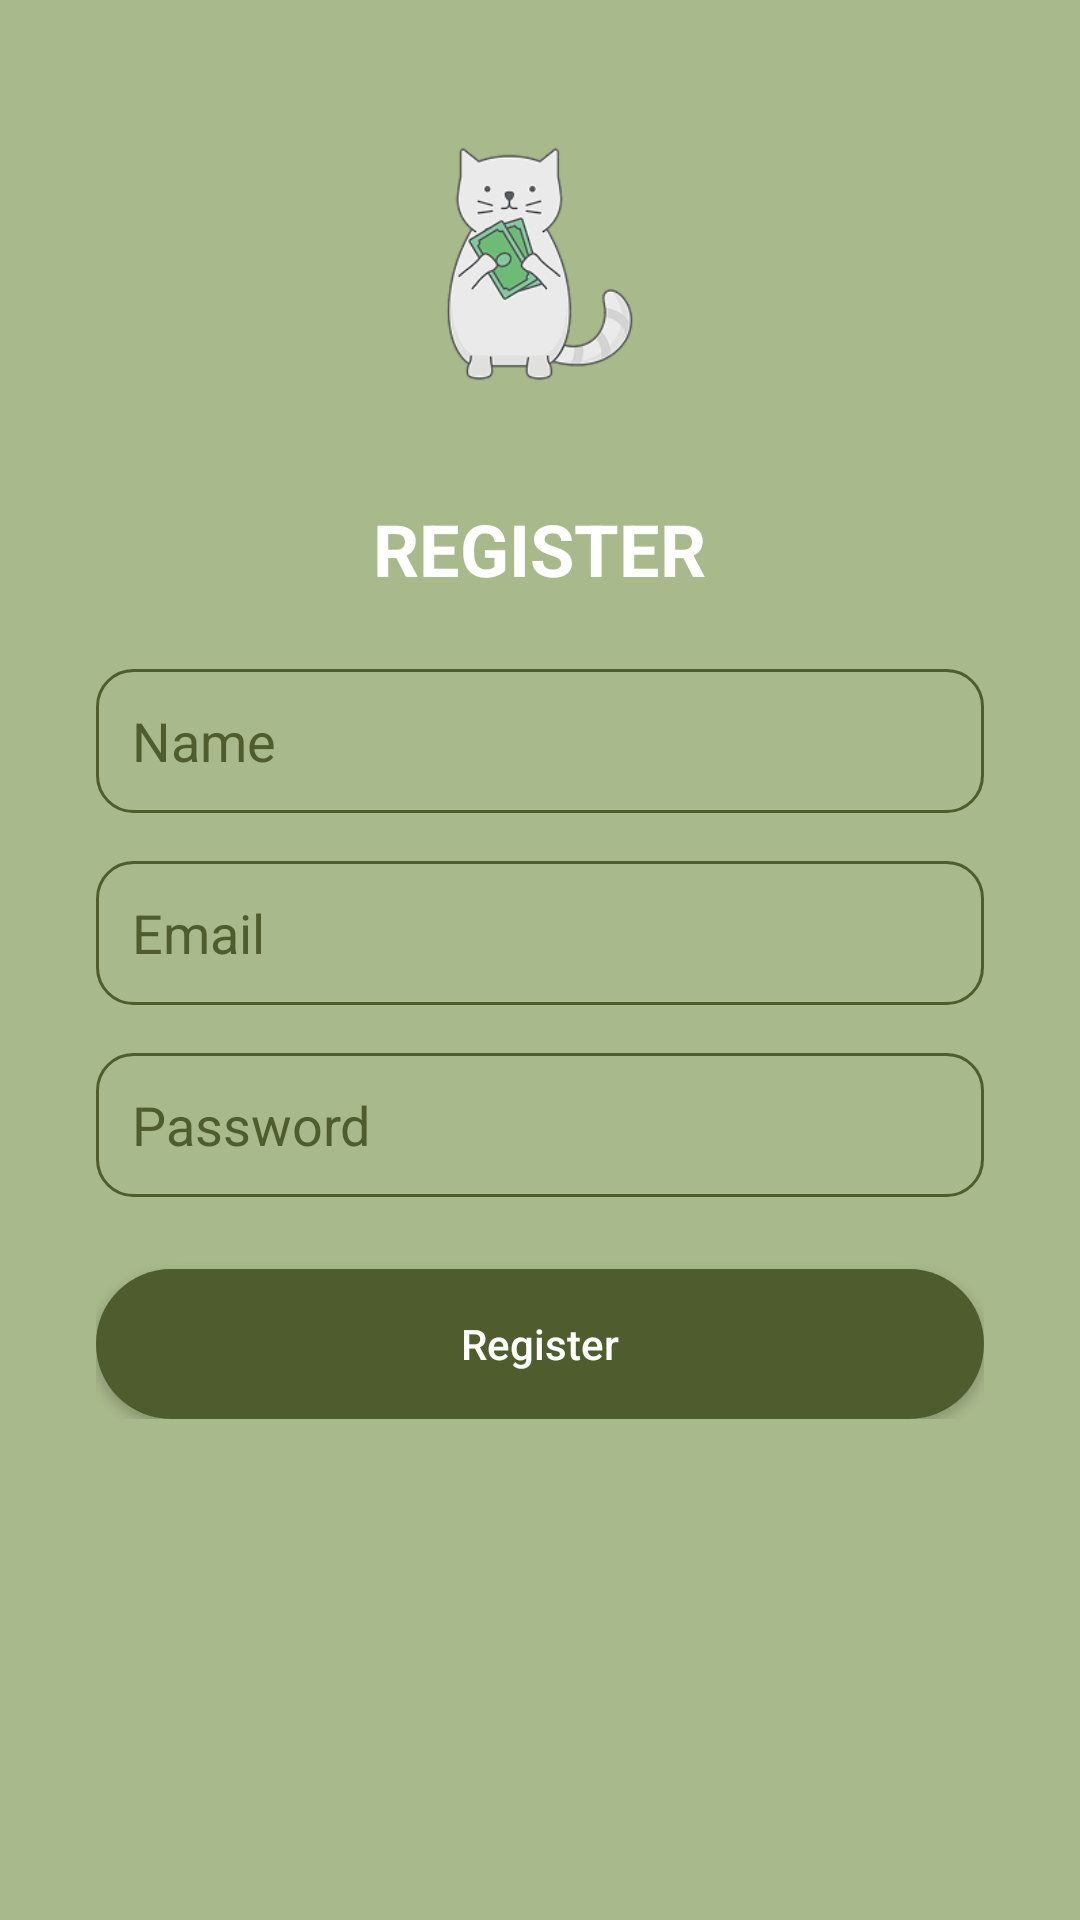

Icon bounding boxes for this 1080px×1920px phone screenshot, format (x1, y1, x2, y2):
cat: (447, 148, 633, 380)
